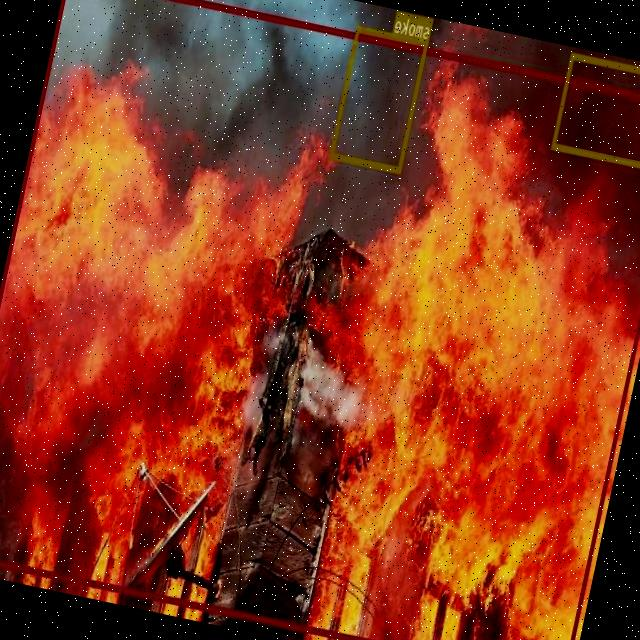fire: (0, 0, 640, 640)
smoke: (330, 25, 429, 172), (552, 52, 640, 171)
